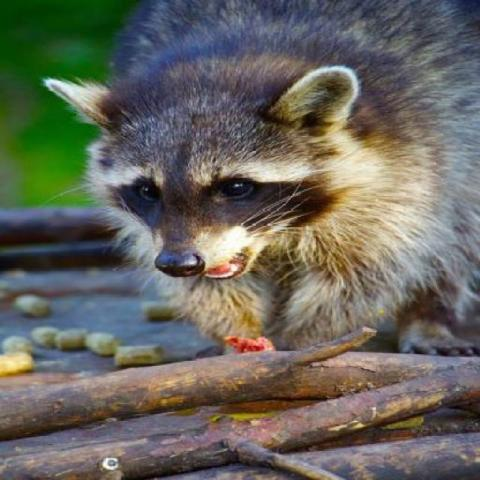small_animal: (43, 1, 478, 356)
